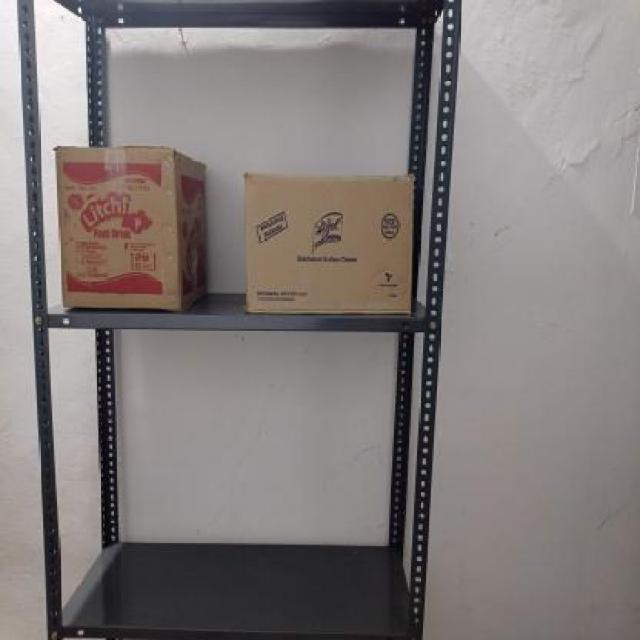box: (244, 172, 413, 314), (58, 144, 175, 308)
